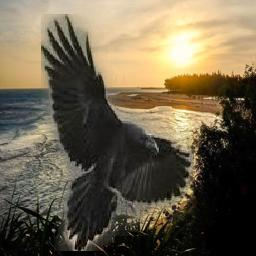Crow: (42, 15, 195, 252)
